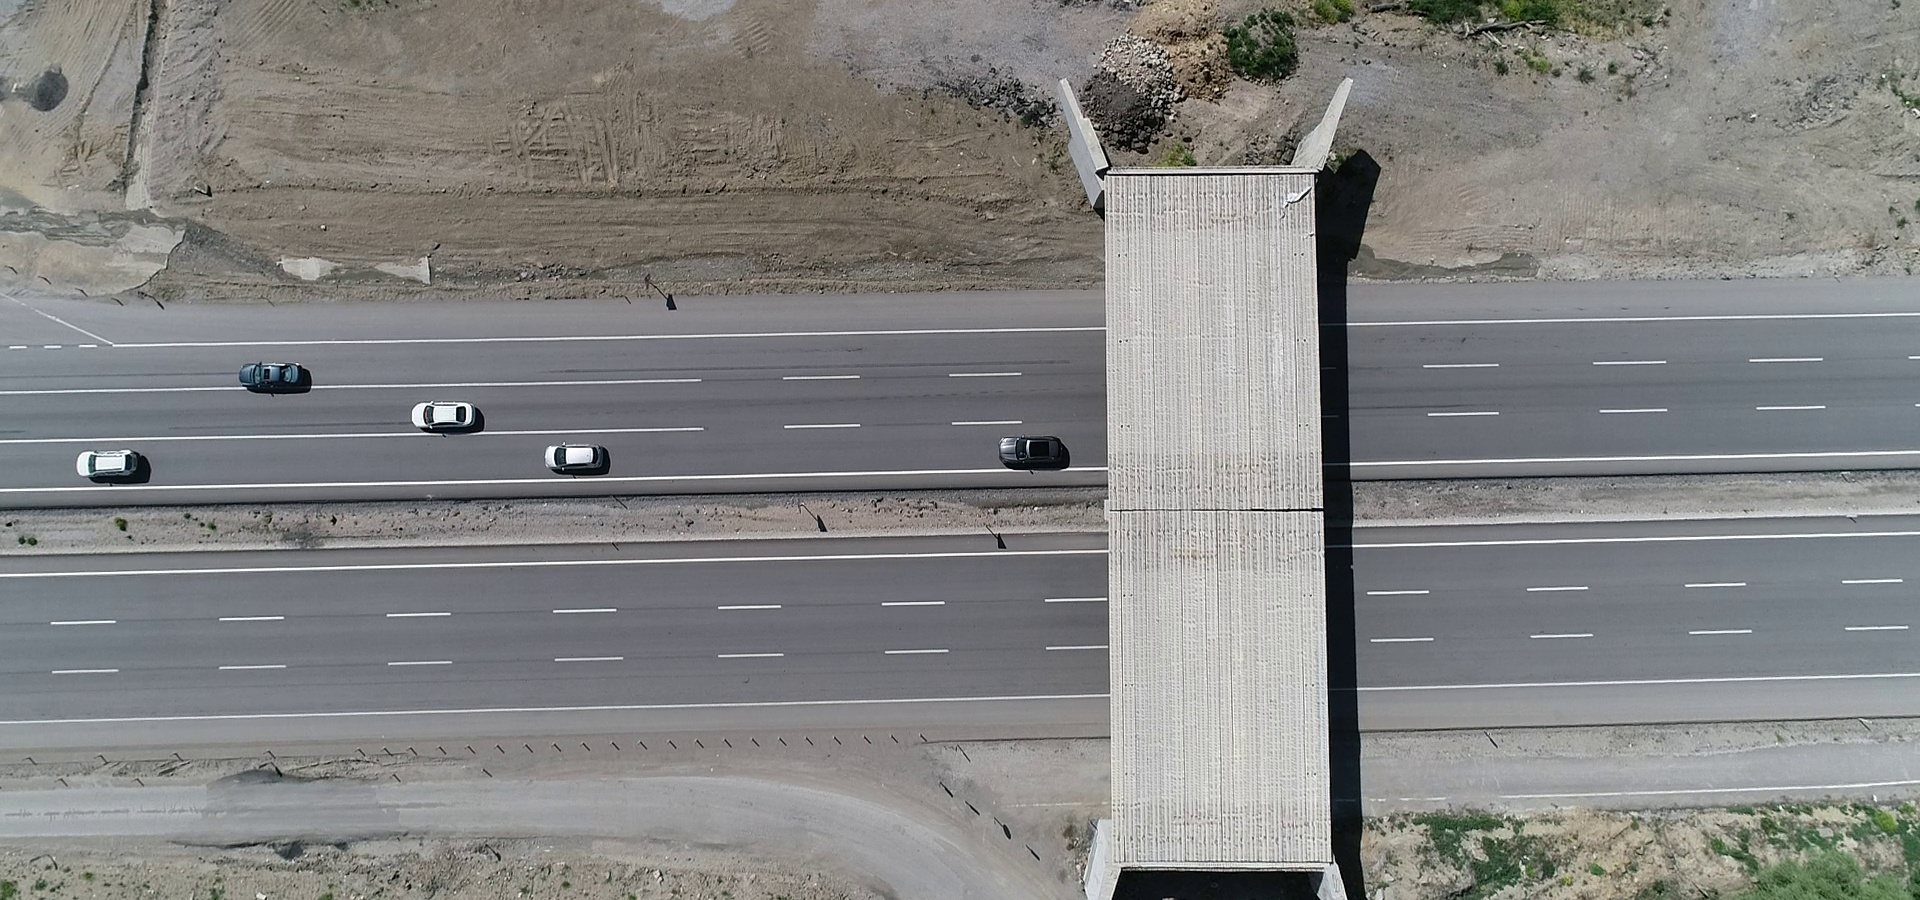araba: (403, 389, 482, 433), (994, 429, 1076, 470), (539, 433, 612, 478), (73, 442, 142, 481), (239, 360, 313, 396)
